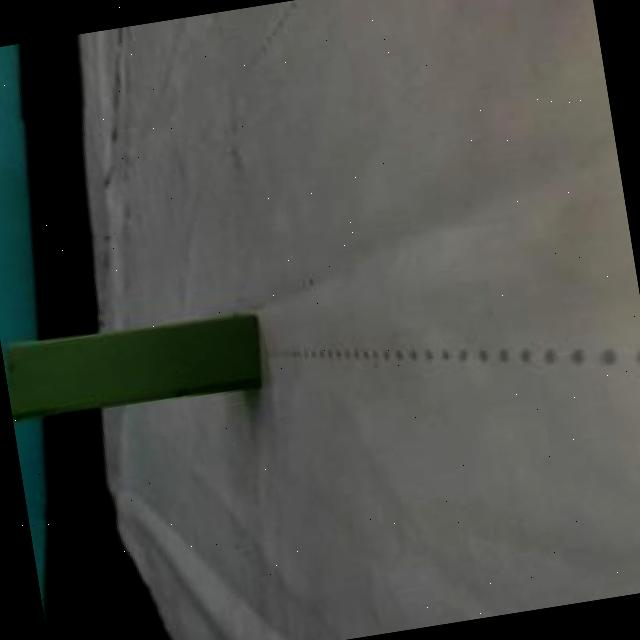greenbox: (1, 306, 268, 425)
